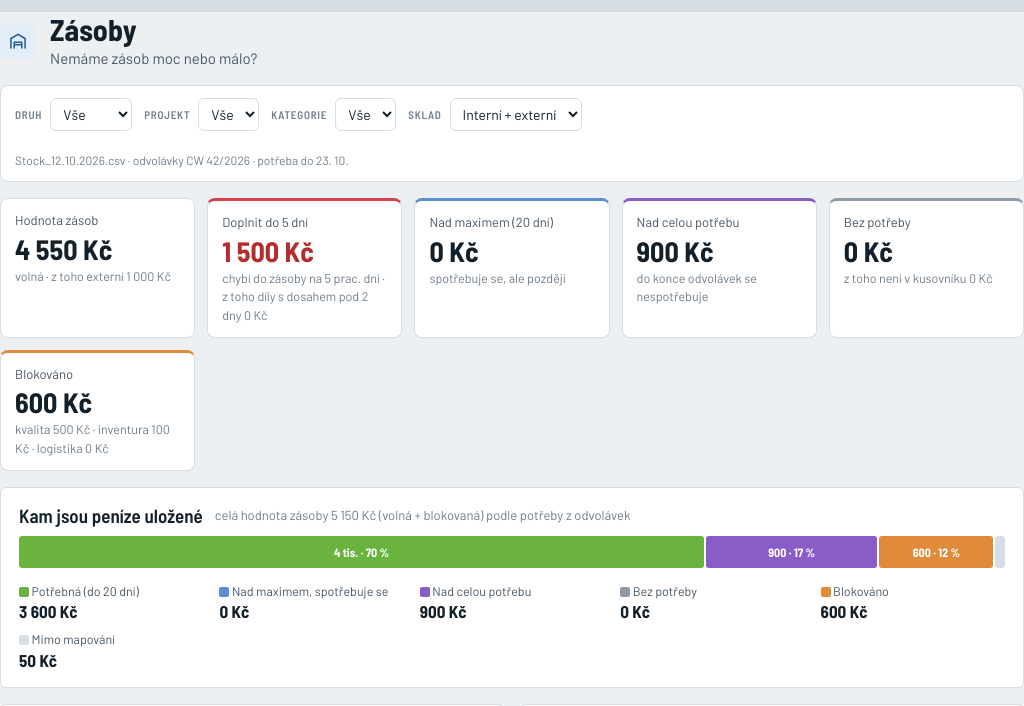
Test: InventoryPage › sklad jen interní a filtr druhu
This screenshot has width=1024, height=706.
Select "Interní" in the dropdown labelled "Sklad" at (516, 114), box x1=450 y1=98 x2=582 y2=131
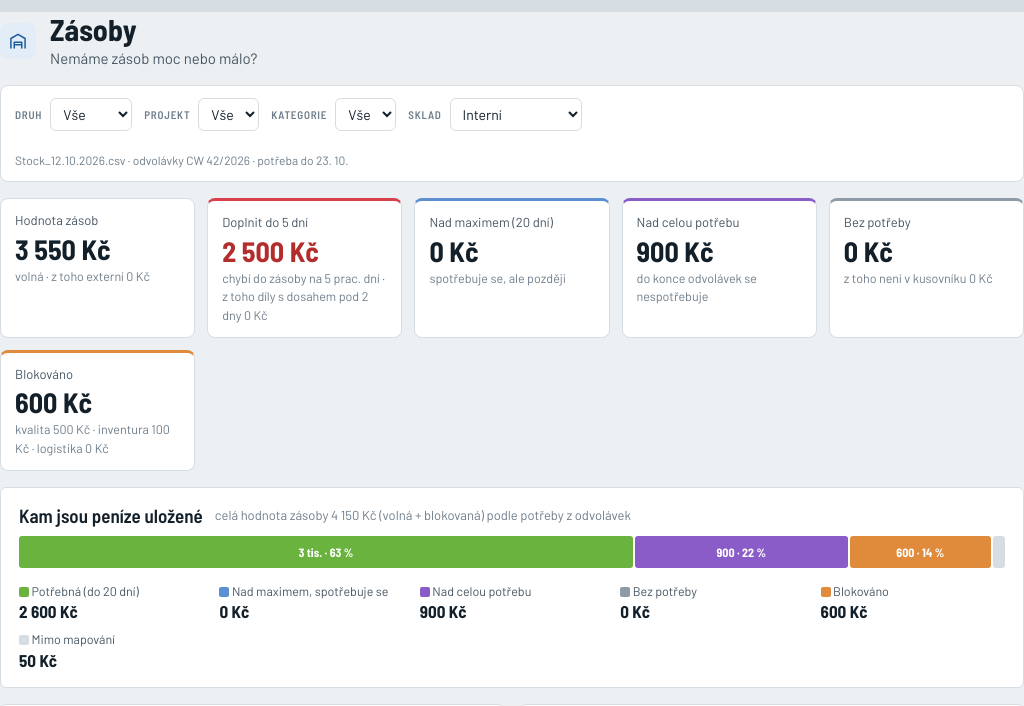
Expected: the text "Hodnota zásob" reads "Hodnota zásob 3 550 Kč volná · z toho externí 0 Kč", x1=0 y1=198 x2=195 y2=338
Select "PG" in the dropdown labelled "Druh" at (91, 114), box x1=50 y1=98 x2=132 y2=131
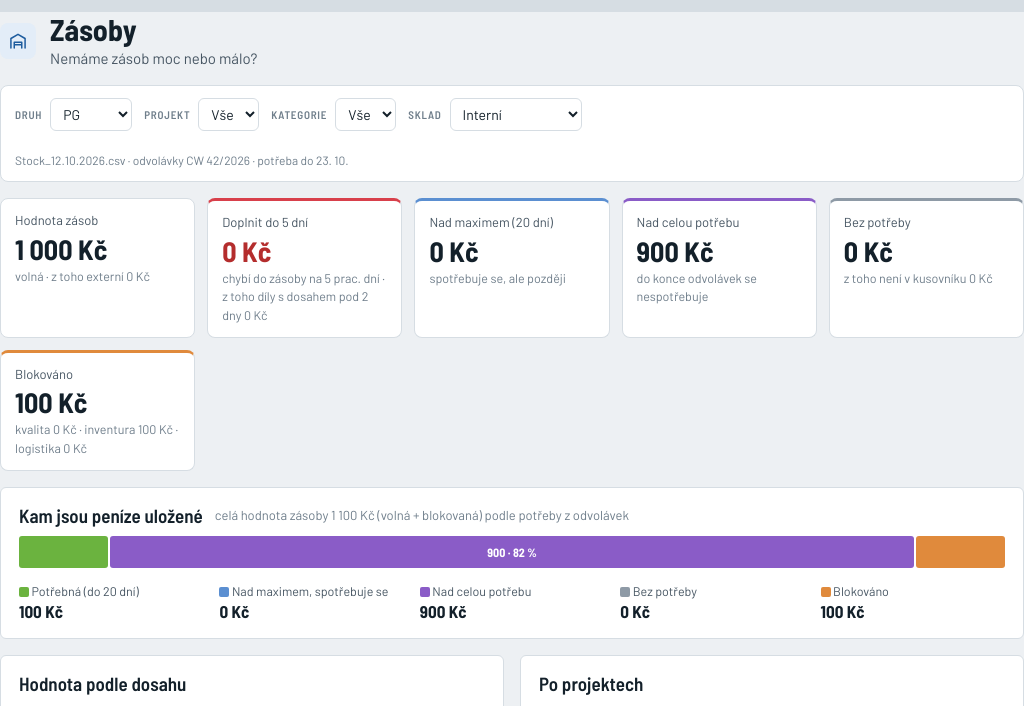
Expected: the text with class "kpi-value" reads "1 000 Kč", x1=15 y1=232 x2=107 y2=266
Expected: the text with class "kpi-value" below "spotřebuje se, ale později" reads "100 Kč", x1=15 y1=385 x2=87 y2=419
